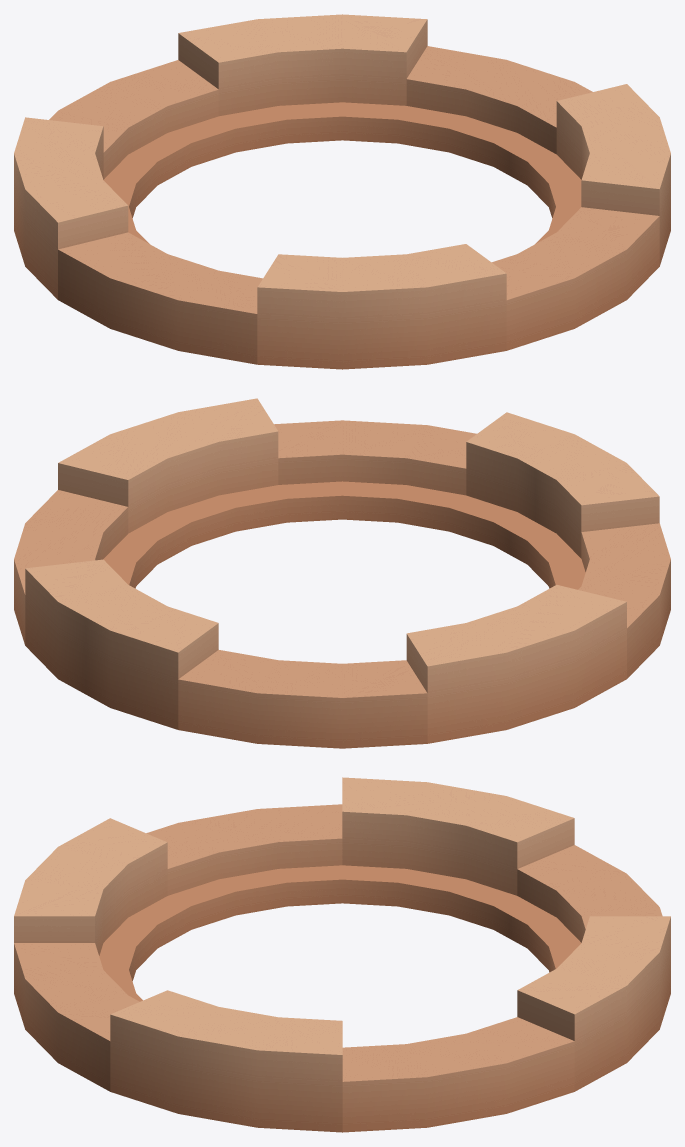
File: tower-top.glb
3 views of the same model, one above another, from view 1: azimuth 30°, elevation 25°; view 2: azimuth 150°, elevation 25°; view 3: azimuth 270°, elevation 25° (orthographic).
Visible parts, largest first — view 1: tower-top; view 2: tower-top; view 3: tower-top.
Boxes of the visible parts, x1,y1,x2,y2 form: tower-top: (14,14,670,369); tower-top: (14,398,670,748); tower-top: (14,777,670,1132).
Bounding box in the file's own units: 1 × 0.13 × 1.
Materials: 1 (1 with a texture image).
